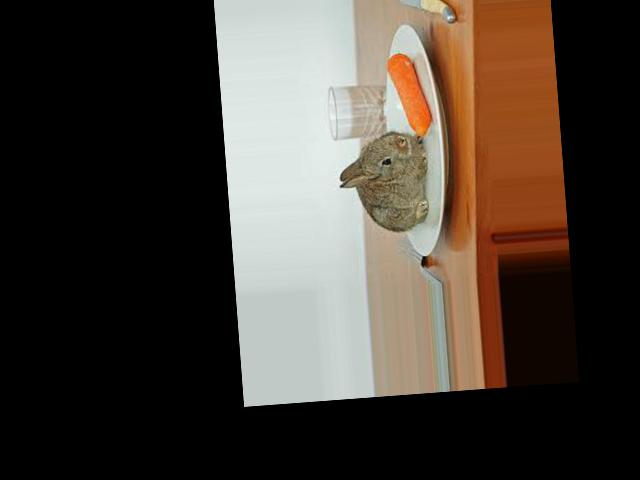carrot: (383, 44, 437, 142)
